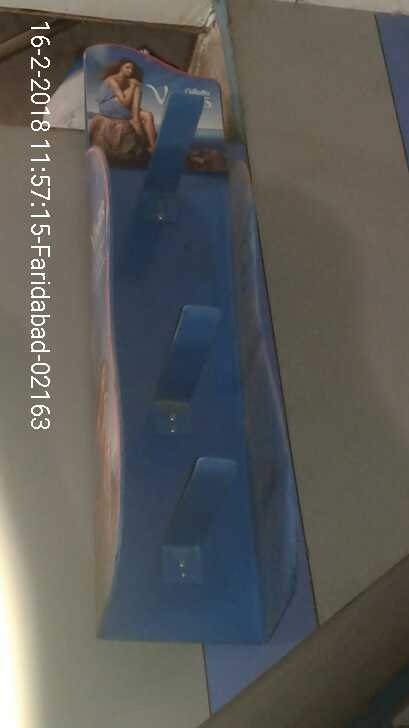reject: (152, 202, 306, 390)
